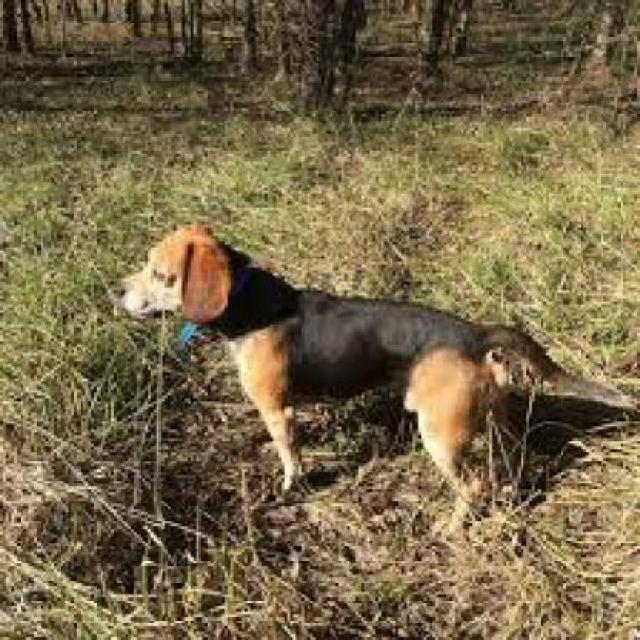Dog: (110, 226, 628, 523)
